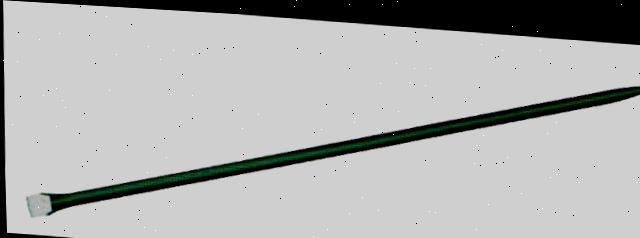crow bar: (16, 30, 640, 238)
